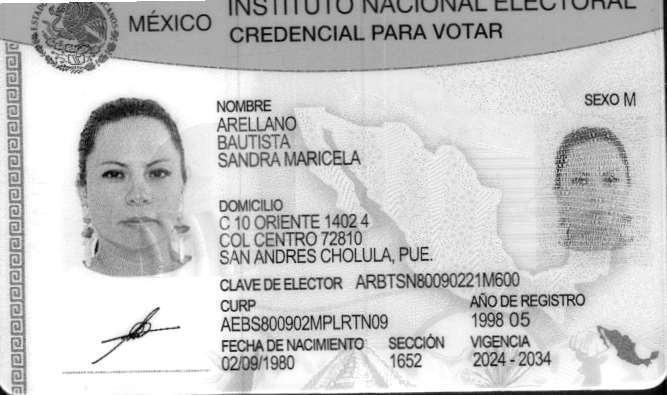ESCUDO: (30, 1, 119, 74)
MAPA: (596, 326, 660, 367)
